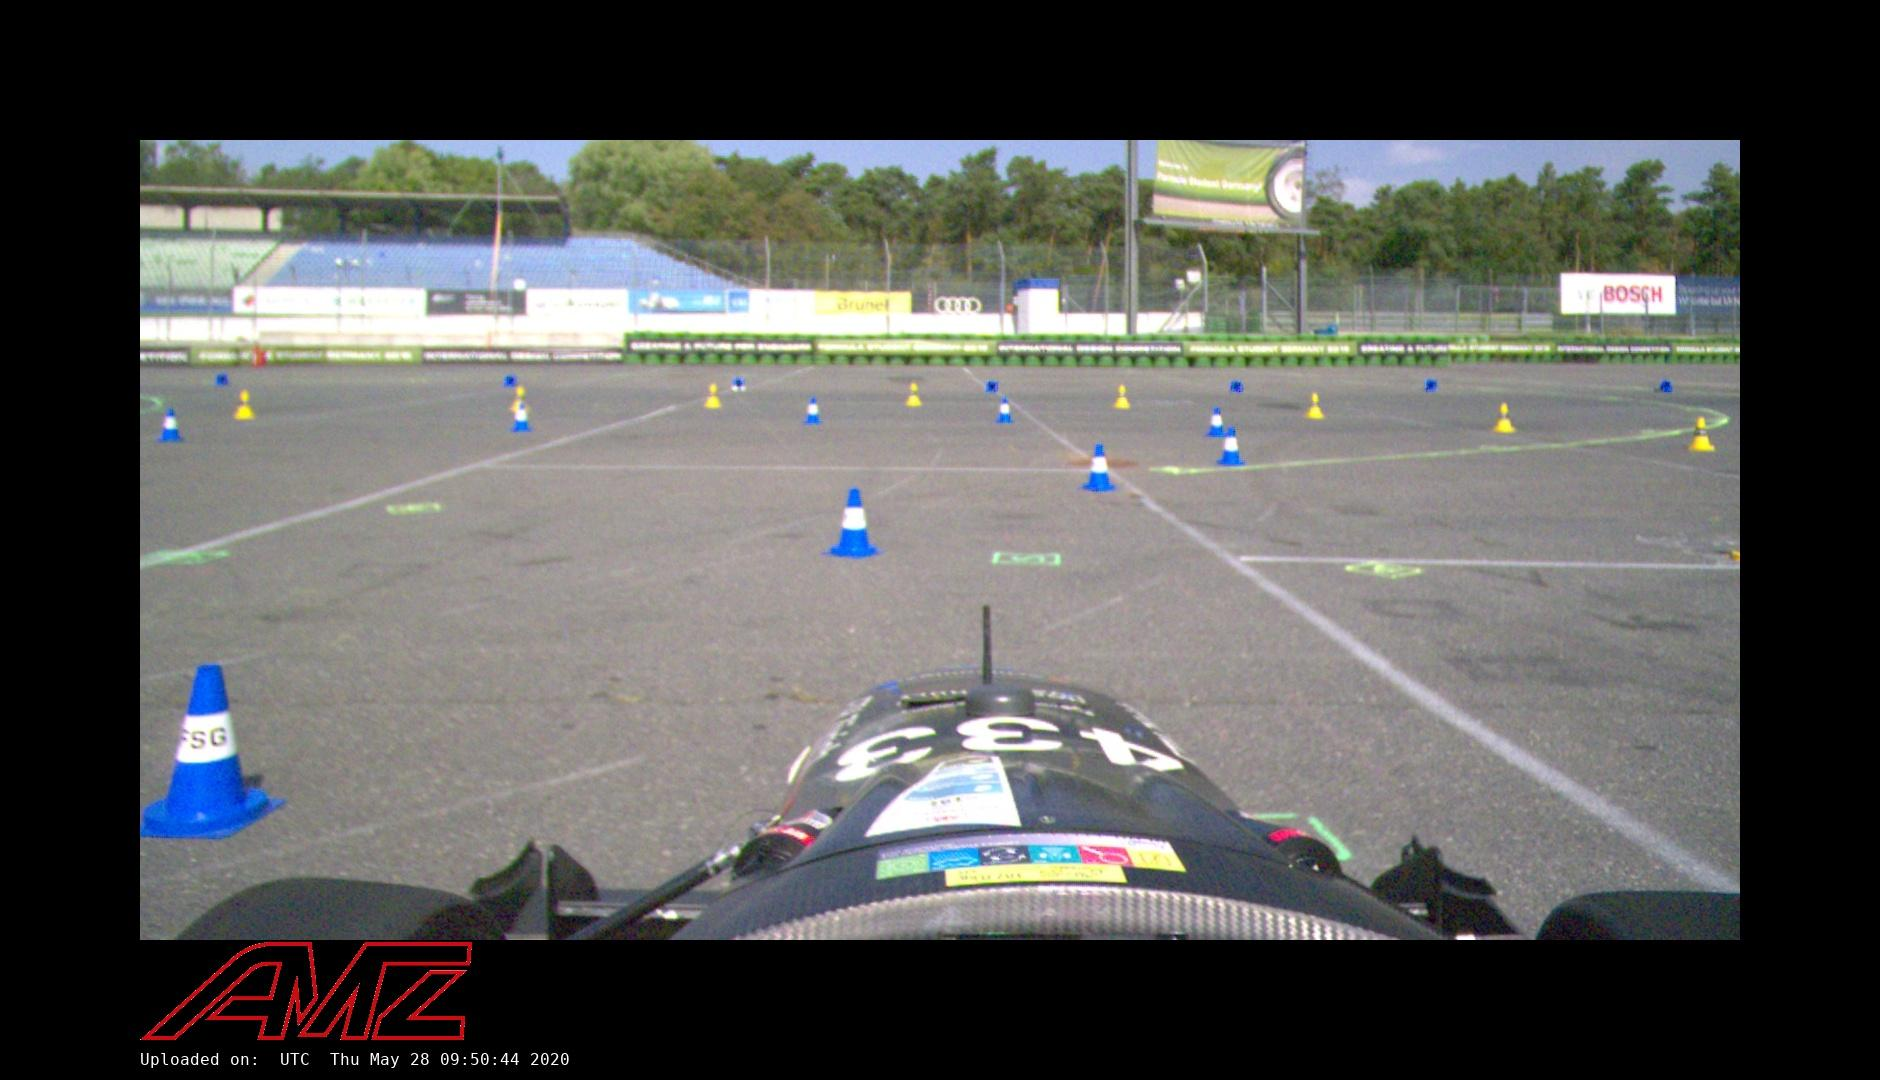blue_cone: (140, 660, 289, 841), (822, 488, 884, 559), (1079, 443, 1118, 492), (1216, 426, 1247, 466), (157, 407, 184, 442), (509, 401, 534, 433), (1206, 406, 1228, 437), (802, 396, 823, 425), (994, 395, 1015, 424), (731, 377, 748, 392), (213, 372, 229, 387), (1654, 381, 1674, 393), (1423, 377, 1438, 392), (985, 380, 1000, 394), (1229, 380, 1244, 394), (503, 375, 516, 387)
yellow_cone: (1687, 416, 1715, 452), (230, 389, 257, 421), (1491, 402, 1517, 433), (509, 385, 531, 412), (1305, 392, 1326, 420), (1112, 383, 1133, 409), (703, 383, 723, 408), (904, 382, 923, 407)
